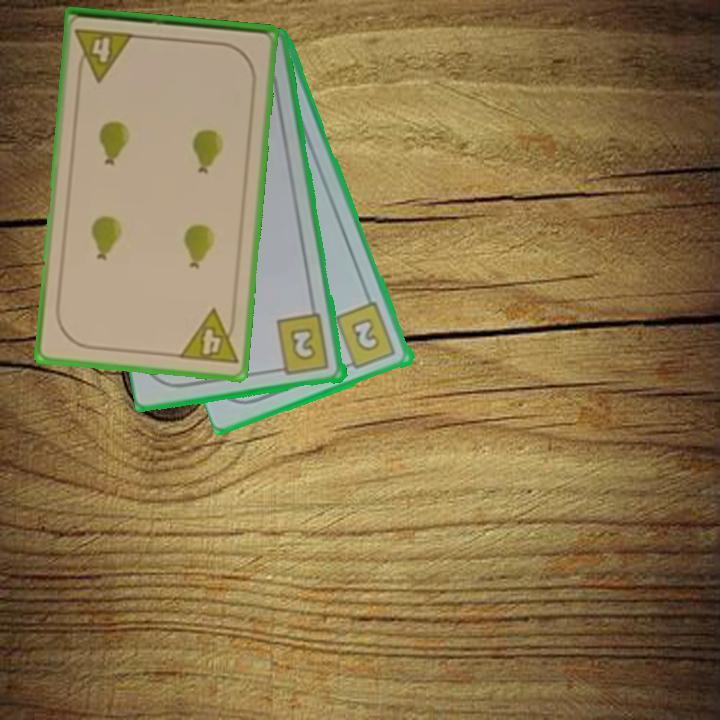2b: (332, 299, 399, 372), (271, 311, 333, 379)
4p: (175, 306, 241, 368), (72, 25, 137, 84)
